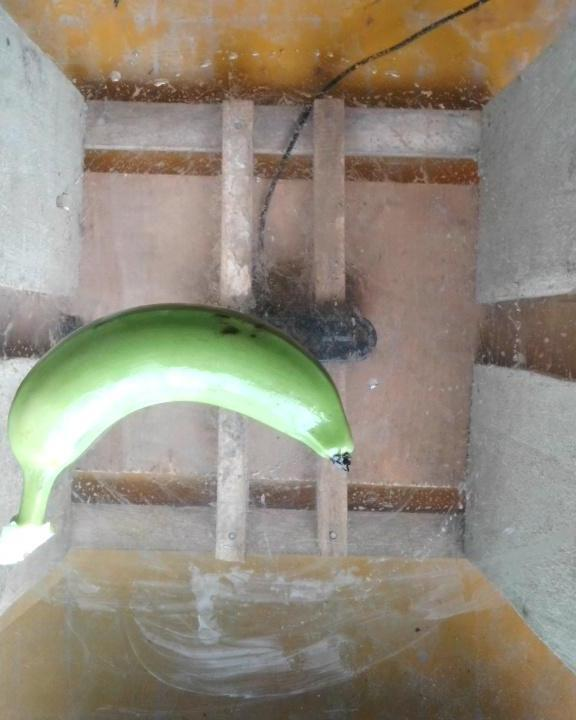CLASS B: (1, 307, 381, 566)
Class A: (214, 303, 268, 347)
